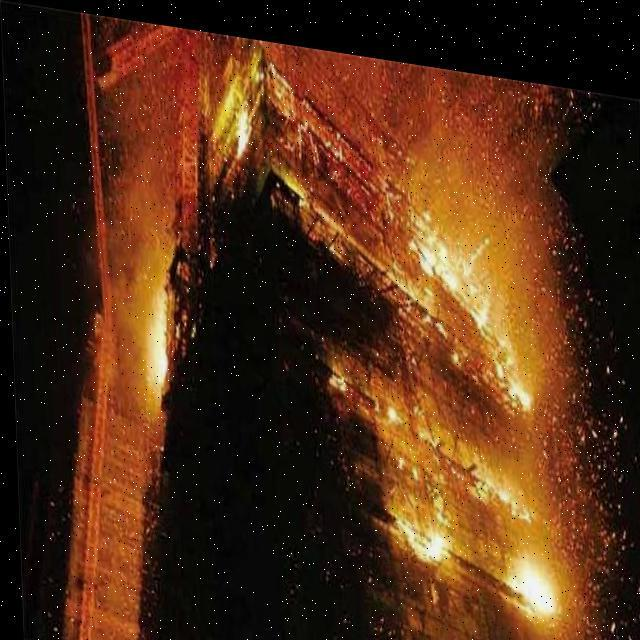Fire: (406, 174, 534, 402)
